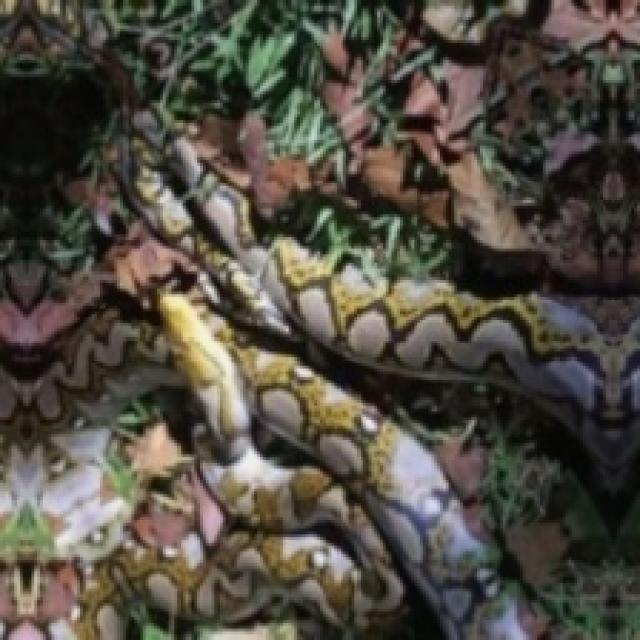reticulated python: (4, 295, 549, 640), (121, 135, 640, 471), (0, 308, 181, 440)
